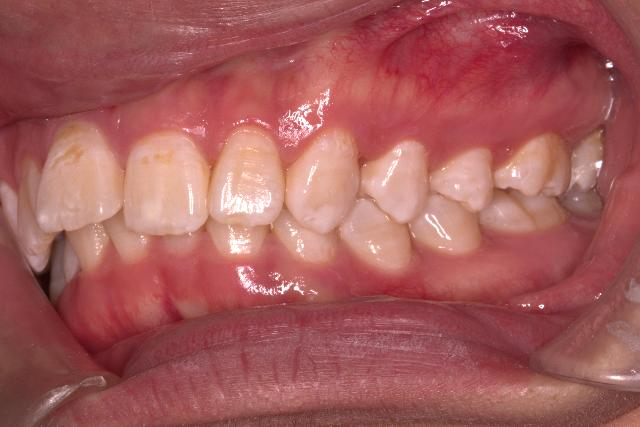canine class II 1/2: (272, 124, 416, 272)
molar class III 1/4: (479, 132, 573, 241)
